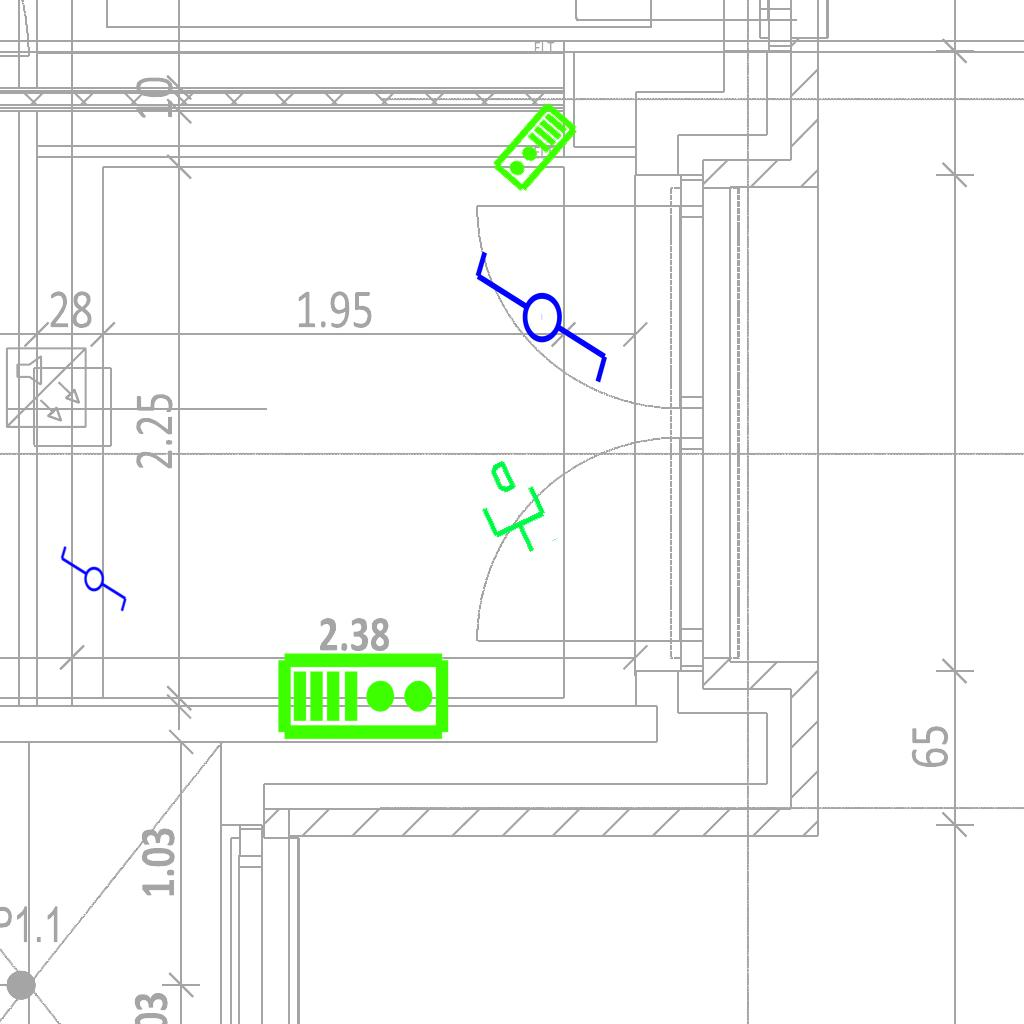Datenanschluss_einfach: (458, 449, 563, 569)
Gegensprechanlage_mit_Video: (276, 647, 452, 742), (488, 99, 583, 197)
Wechselschalter: (468, 247, 612, 404), (57, 544, 129, 622)
